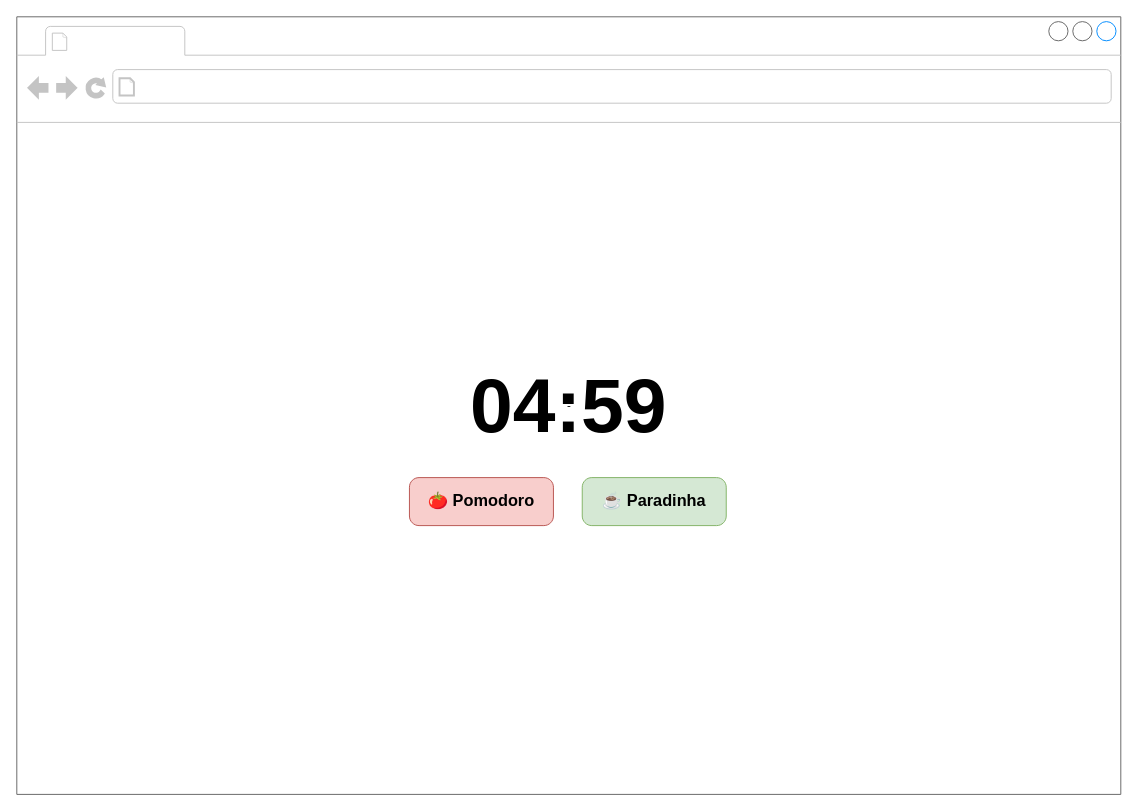
Image size: 1138x811. Some labels were removed from this diagram. Here are the shapes that lost their labels. From the top down, the centre of each, then its label:
(126,40): Page 1
(261,86): https://dbo.pomodoro.io
